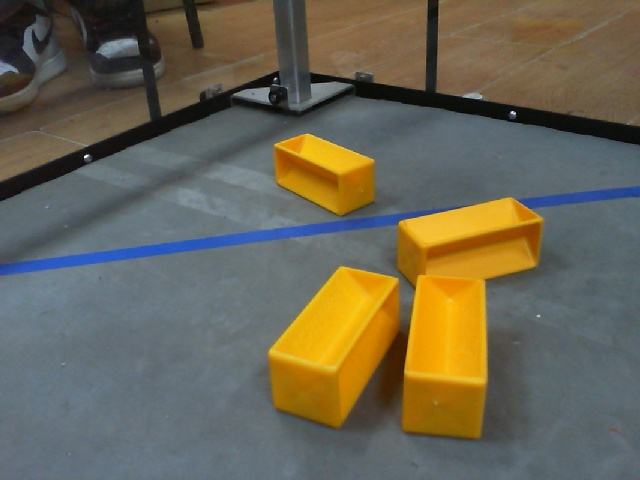YellowSample: (264, 263, 403, 434), (394, 193, 550, 294), (400, 271, 488, 443), (268, 129, 378, 218)
